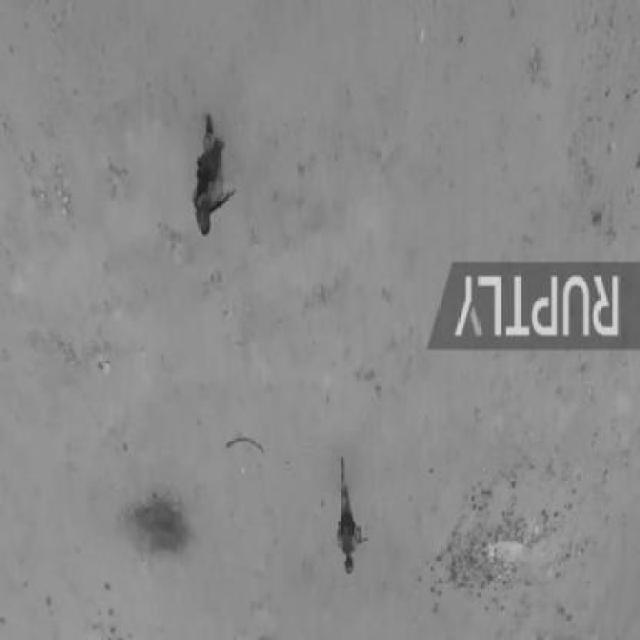Person: (192, 112, 235, 241), (336, 454, 368, 579)
